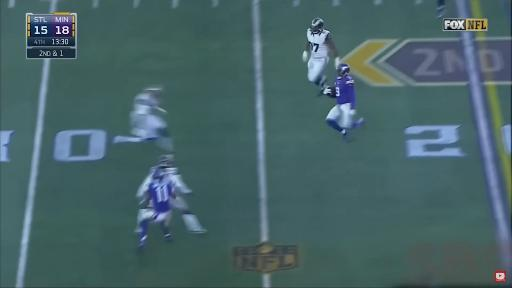Helmet: (311, 17, 324, 33), (337, 64, 350, 77)
Jersey: (148, 181, 173, 212), (307, 29, 331, 58), (334, 76, 355, 109), (137, 167, 156, 202)
Player: (137, 155, 206, 233), (323, 64, 364, 141), (139, 169, 175, 249), (303, 18, 340, 93), (437, 0, 445, 18)
